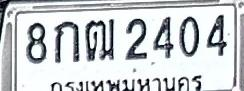0: (178, 15, 200, 57)
2: (125, 18, 147, 60)
4: (152, 16, 174, 58), (206, 13, 227, 56)
8: (26, 22, 46, 64)
A01: (54, 20, 80, 63)
A18: (84, 18, 114, 61)
